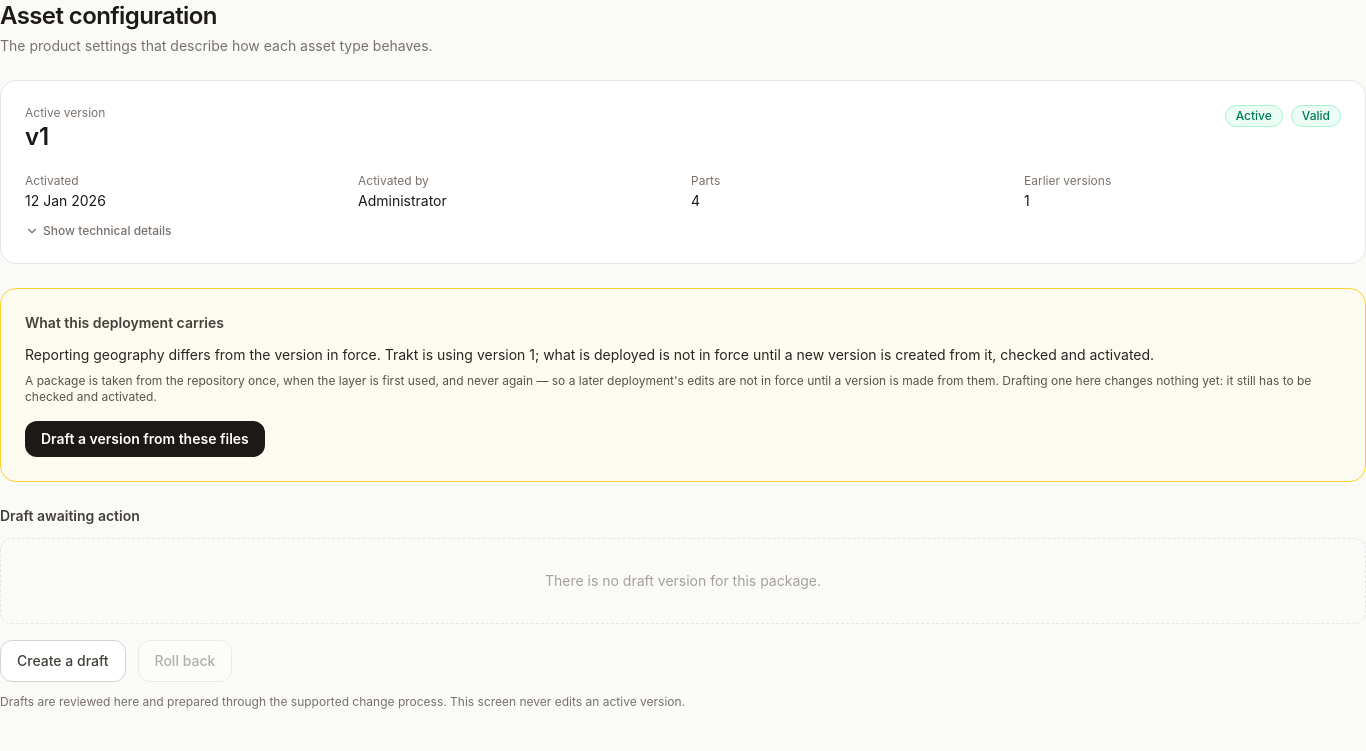
Scenario: what this deployment carries › drafts a version from the deployed files, leaving the active one alone
The image size is (1366, 751).
Expected: the heading "Asset configuration" is shown, x1=0 y1=1 x2=217 y2=30
Click the button "Draft a version from these files".
click(145, 439)  # box x1=25 y1=421 x2=265 y2=457
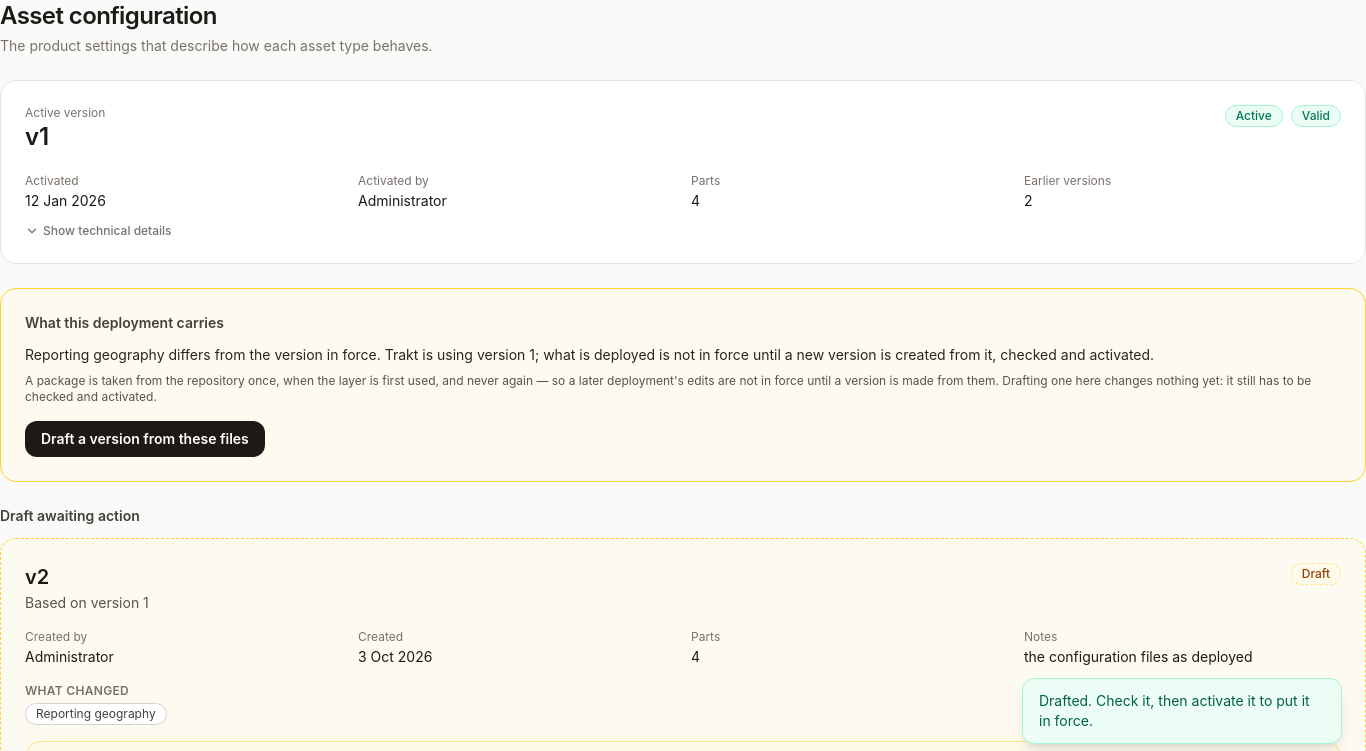
Expected: the text "Drafted. Check it, then activate it to put it in force." is shown, x1=1022 y1=678 x2=1342 y2=744
